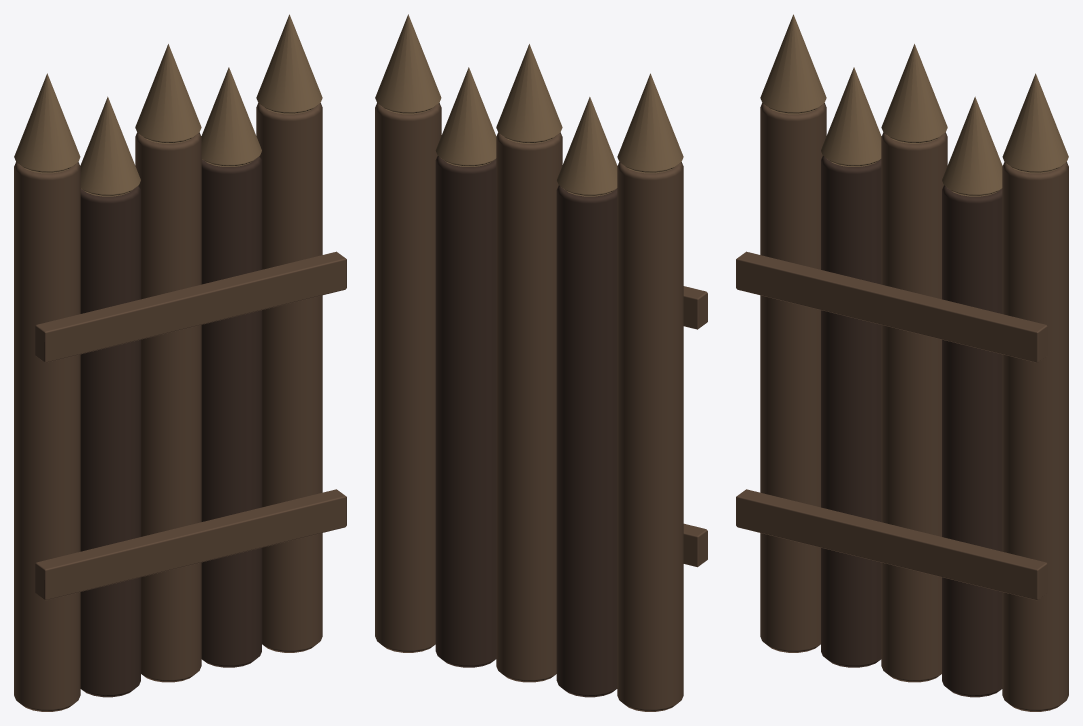
The model's file is village-wall-boundary.a250c4ad.glb.
3 views of the same model, side by side, from view 1: azimuth 30°, elevation 25°; view 2: azimuth 150°, elevation 25°; view 3: azimuth 330°, elevation 25° (orthographic).
Parts seen in each view (by area): view 1: body; view 2: body; view 3: body.
Part boxes in pixels (box(x1,y1,x2,y2)): body: box(14, 14, 346, 711); body: box(375, 14, 707, 711); body: box(736, 14, 1068, 711).
Bounding box in the file's own units: 1 × 1.98 × 0.255.
